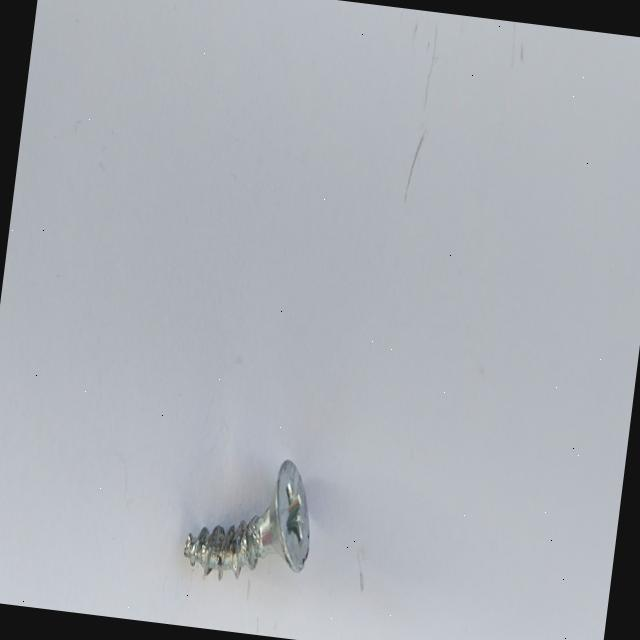Screw: (183, 459, 309, 579)
